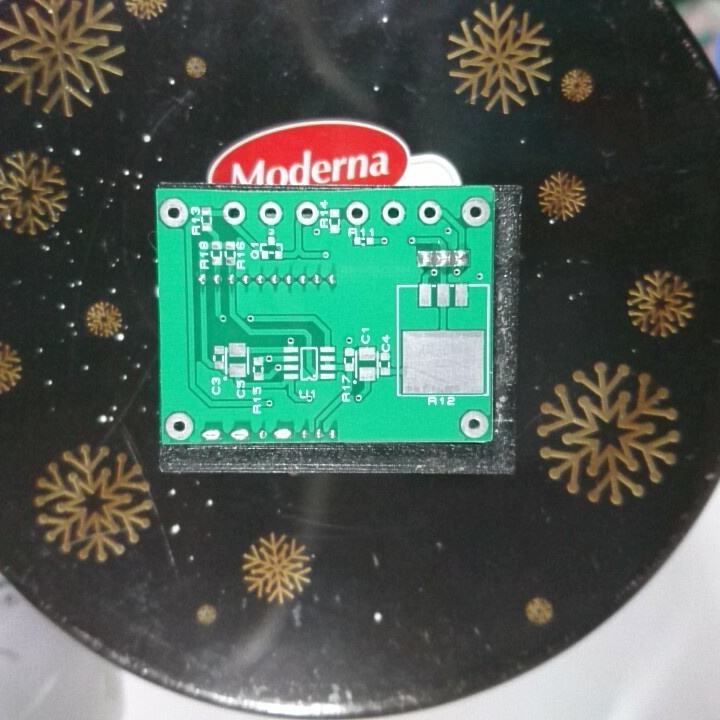F: (458, 407, 490, 440), (460, 195, 491, 228), (158, 197, 188, 229), (163, 411, 195, 440), (342, 198, 371, 227), (380, 198, 407, 229), (417, 198, 444, 226), (257, 199, 285, 226), (220, 199, 248, 226), (294, 199, 319, 226)
P: (200, 426, 225, 444), (272, 425, 294, 442), (228, 426, 250, 443)
